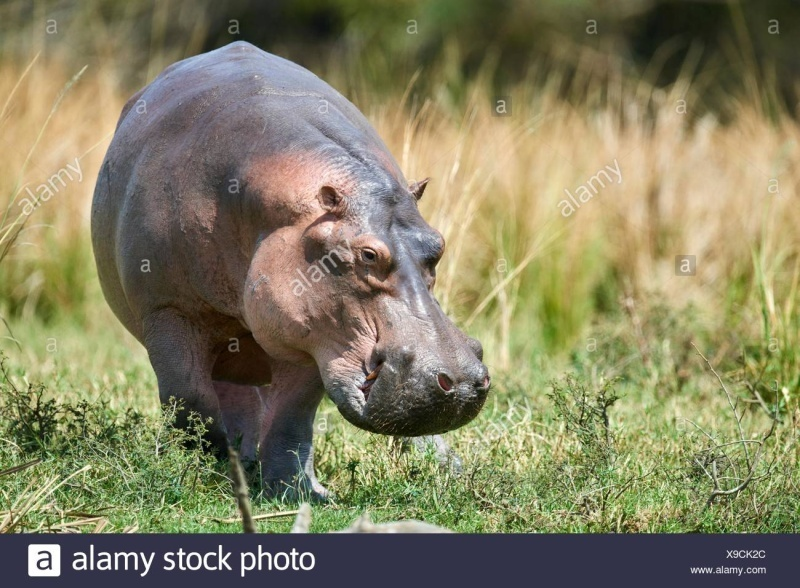hipopotamo: (79, 36, 496, 501)
